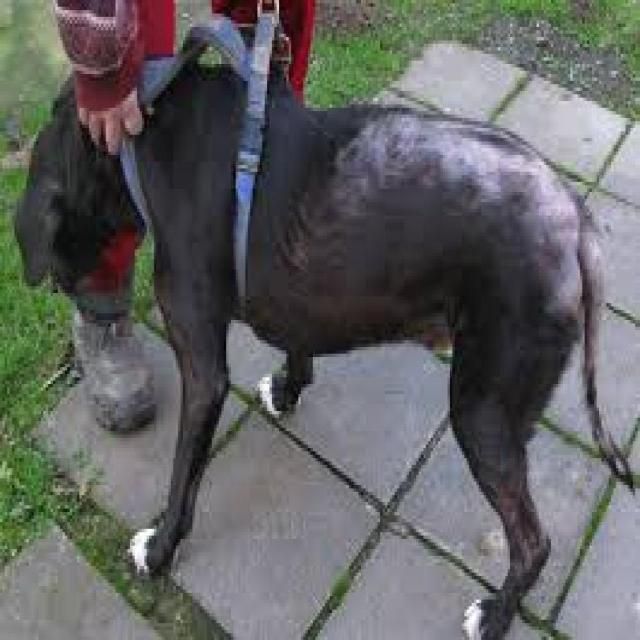allergic dermatitis: (338, 109, 528, 225), (514, 156, 585, 329)
